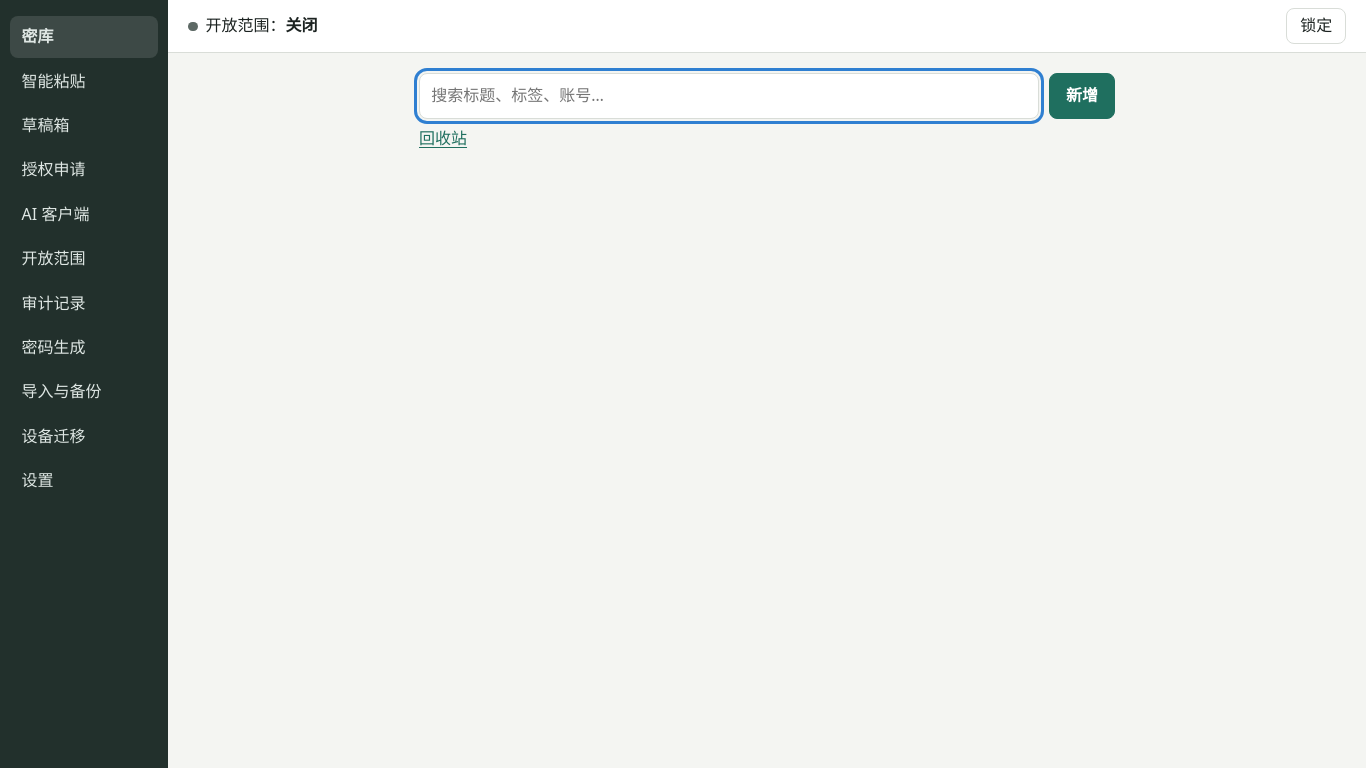
开放范围、客户端、审计、设置 › 被新设备取代时说明原因，不能再开放公网
Click the button "开放范围" at (84,259), box [10,238,158,280]
(page scrolled)
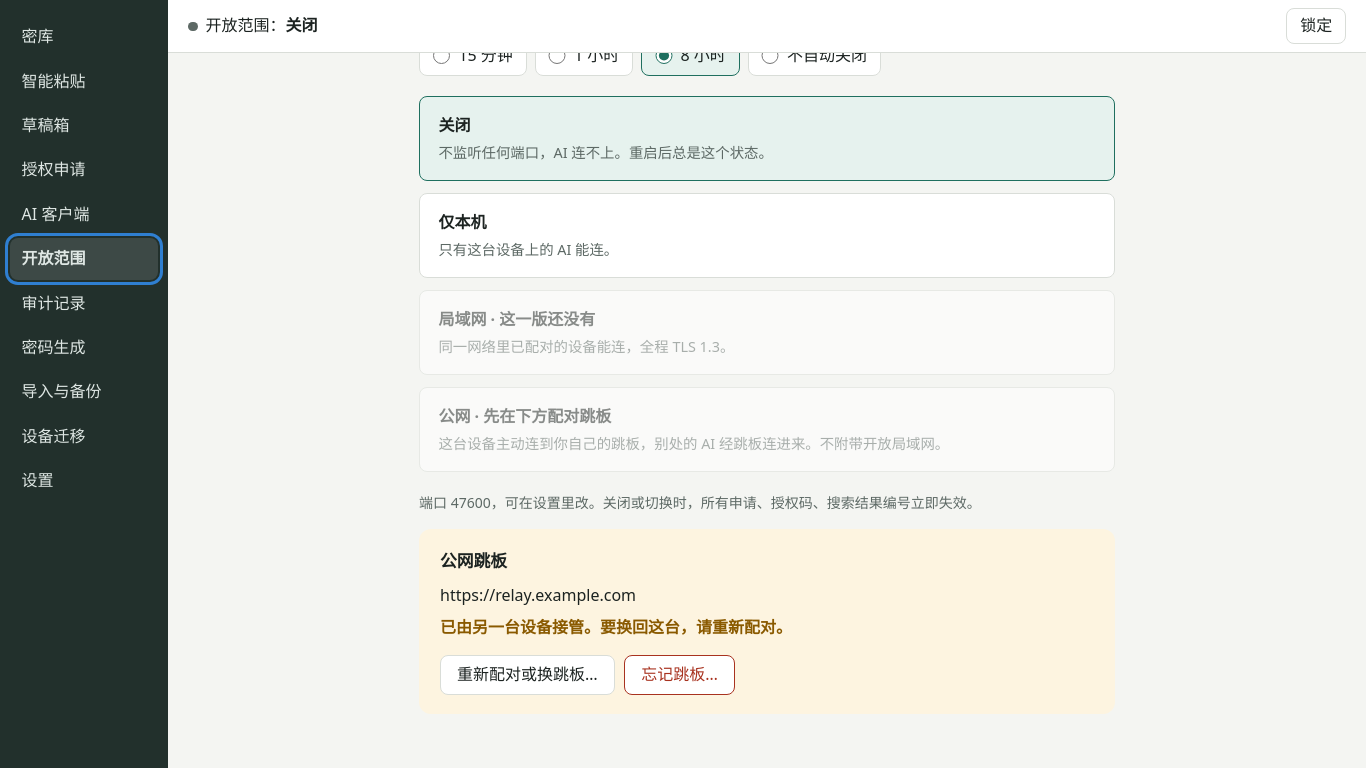
Check: the button "公网 · 先在下方配对跳板 这台设备主动连到你自己的跳板，别处的 AI 经跳板连进来。不附带开放局域网。" is disabled, box [419,387,1115,472]
